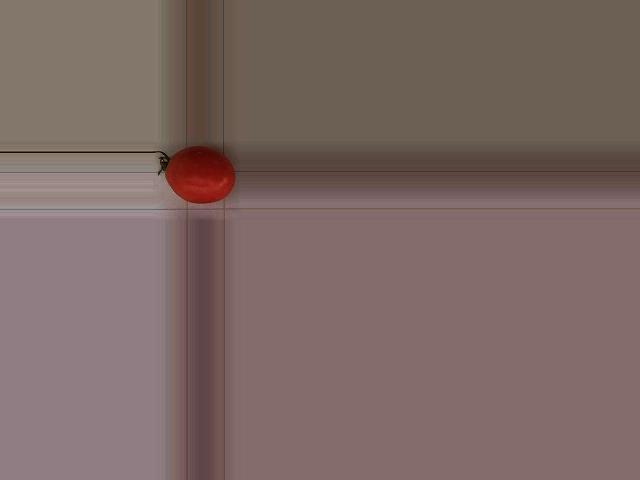tomato: (164, 146, 235, 203)
